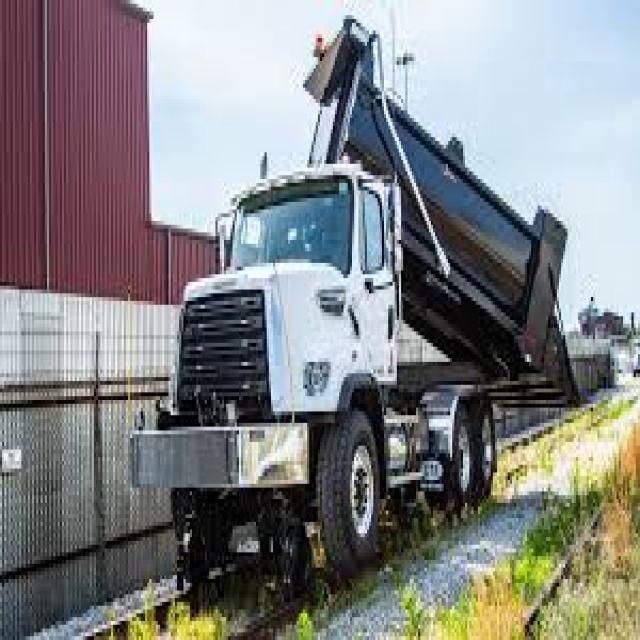dump_truck: (130, 0, 584, 576)
